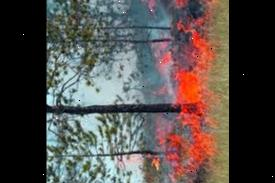fire: (155, 0, 220, 183)
